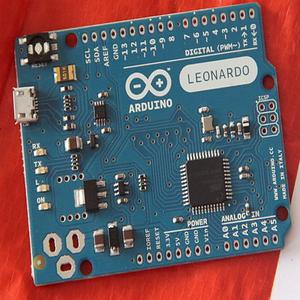duino: (10, 2, 292, 284)
